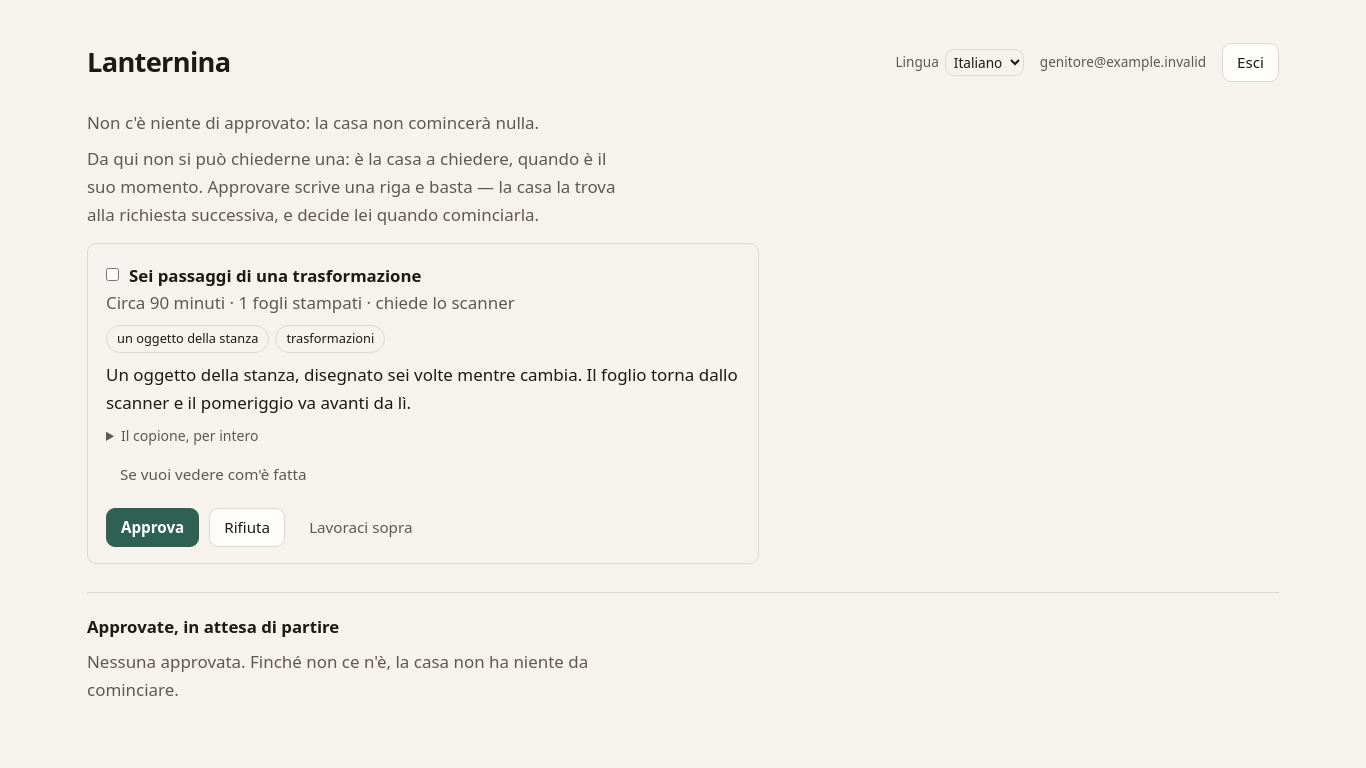
Scenario: an afternoon offered to the parent › opens every step, including the branch that is not written yet
This screenshot has width=1366, height=768.
Expected: the text "Sei passaggi di una trasformazione" is shown, [129,262,421,290]
Expected: the text "Sei riquadri" is not shown
Click the button "Se vuoi vedere com'è fatta". click: (213, 475)
box: [106,456,320,494]
(page scrolled)
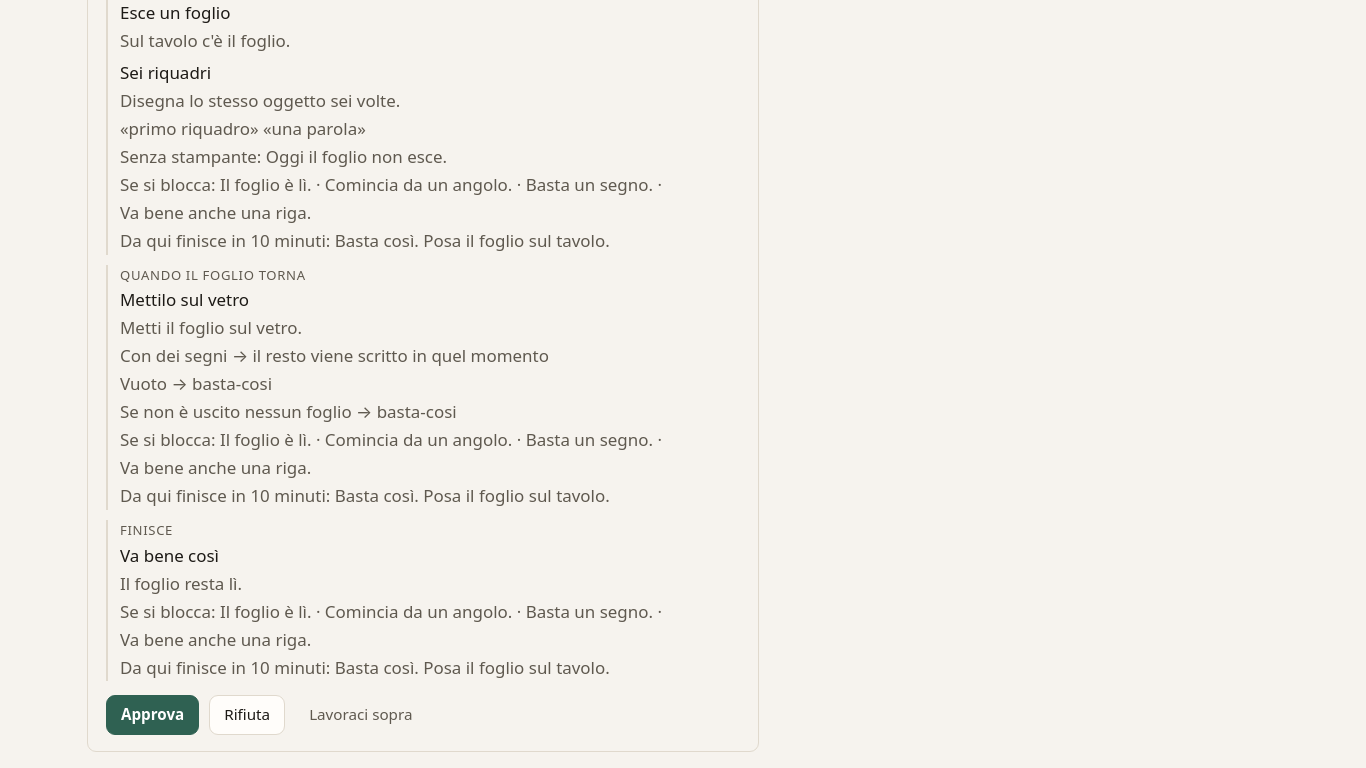
Result: the text "Sei riquadri" is shown at [120,61,211,84]
Result: the text "Disegna lo stesso oggetto sei volte." is shown at [120,89,400,112]
Result: the text "«primo riquadro» «una parola»" is shown at [120,117,366,140]
